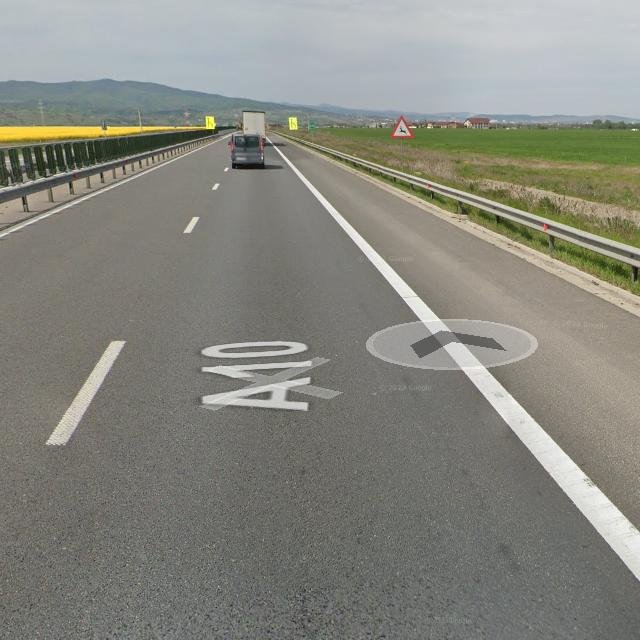warn_wild_animals: (390, 115, 416, 139)
